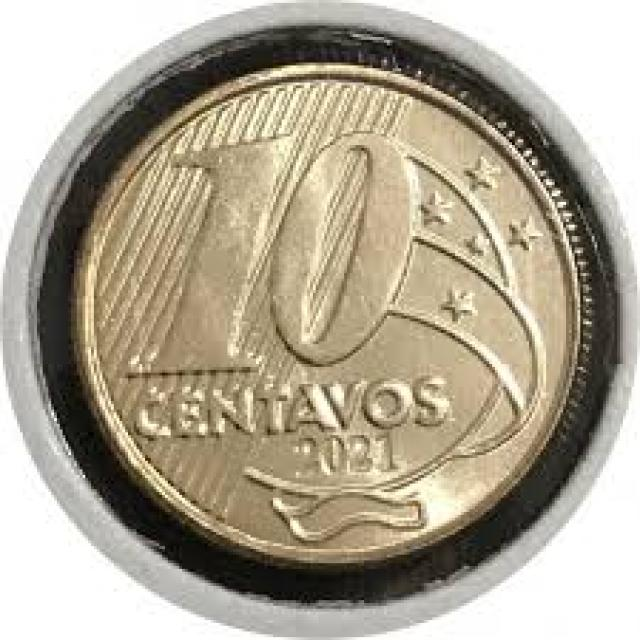10 cent: (74, 69, 569, 559)
